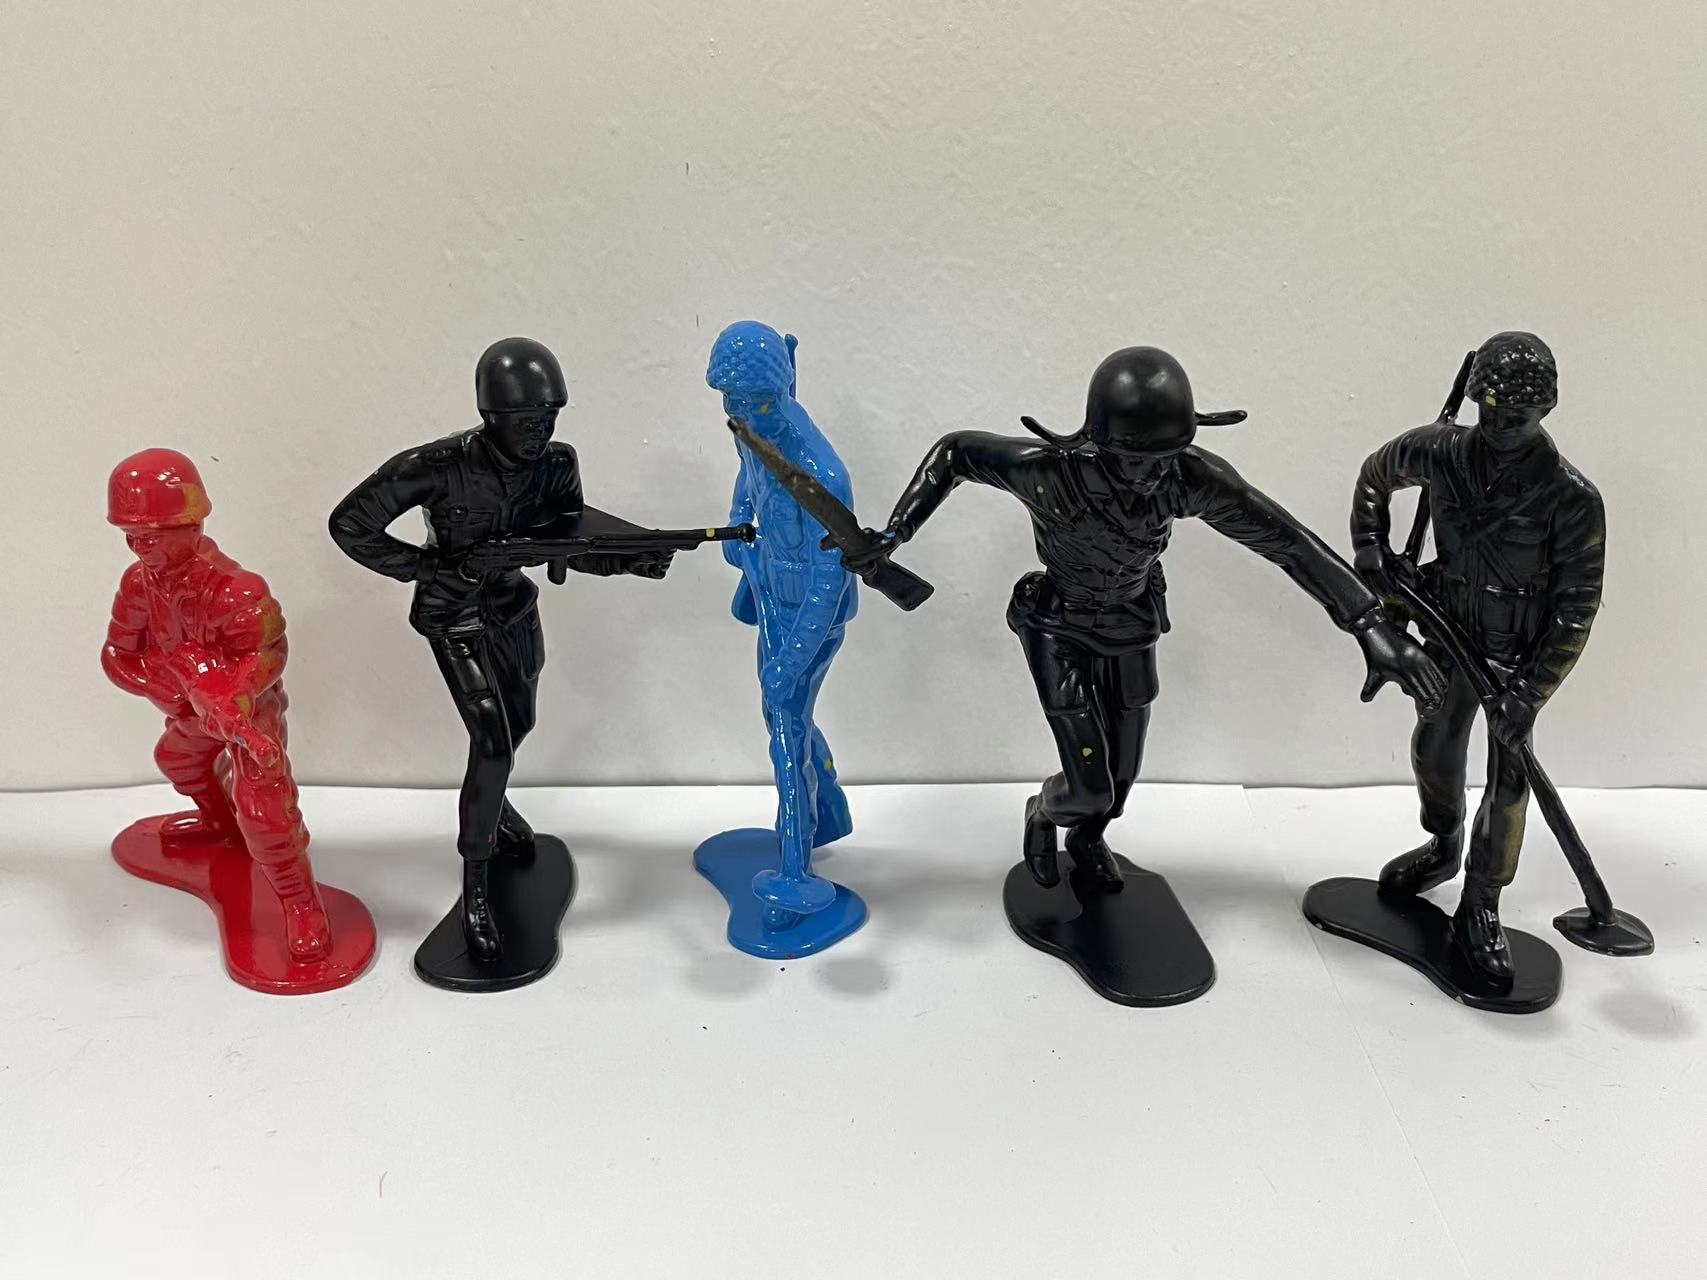black: (863, 303, 1364, 1022), (1320, 259, 1659, 1053), (331, 304, 700, 1014)
blue: (681, 274, 910, 1002)
red: (65, 409, 384, 1016)
